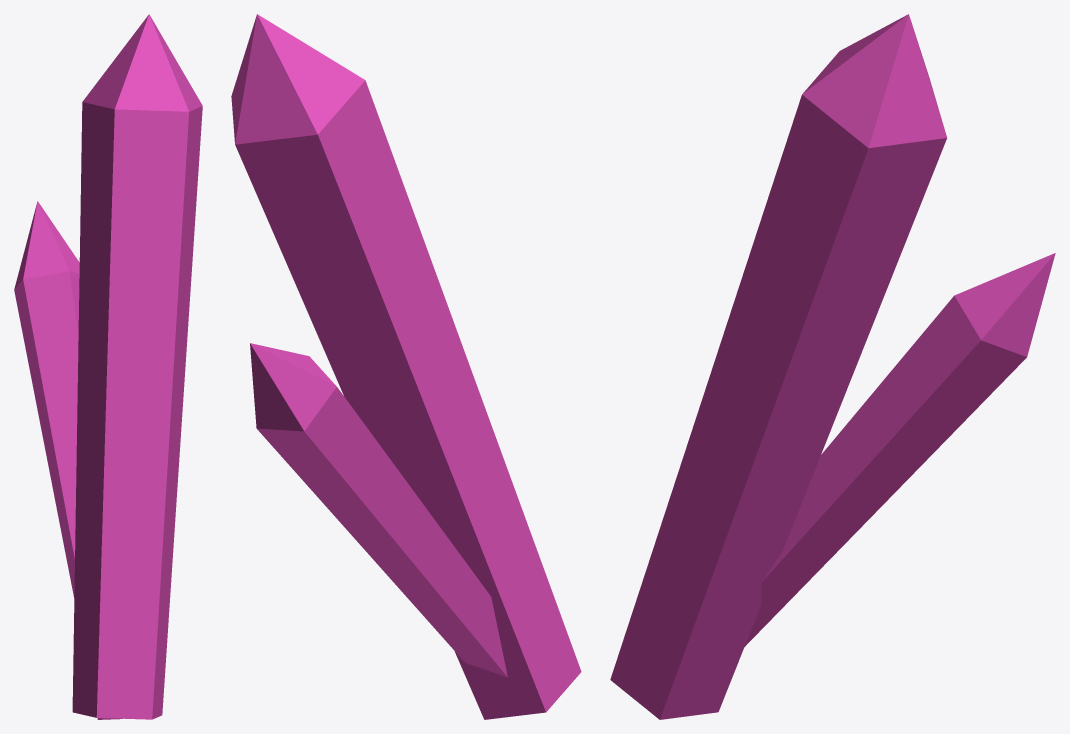
The model's file is small_crystals_19_5.fbx.
3 views of the same model, side by side, from view 1: azimuth 30°, elevation 25°; view 2: azimuth 150°, elevation 25°; view 3: azimuth 270°, elevation 25° (orthographic). The views are drawn at different scales.
Parts seen in each view (by area): view 1: small crystals.026; view 2: small crystals.026; view 3: small crystals.026.
Boxes of the visible parts, x1,y1,x2,y2 form: small crystals.026: (14, 14, 202, 719); small crystals.026: (231, 14, 581, 719); small crystals.026: (610, 14, 1055, 719).
Size of the model in its own units: 103 by 303 by 160.
